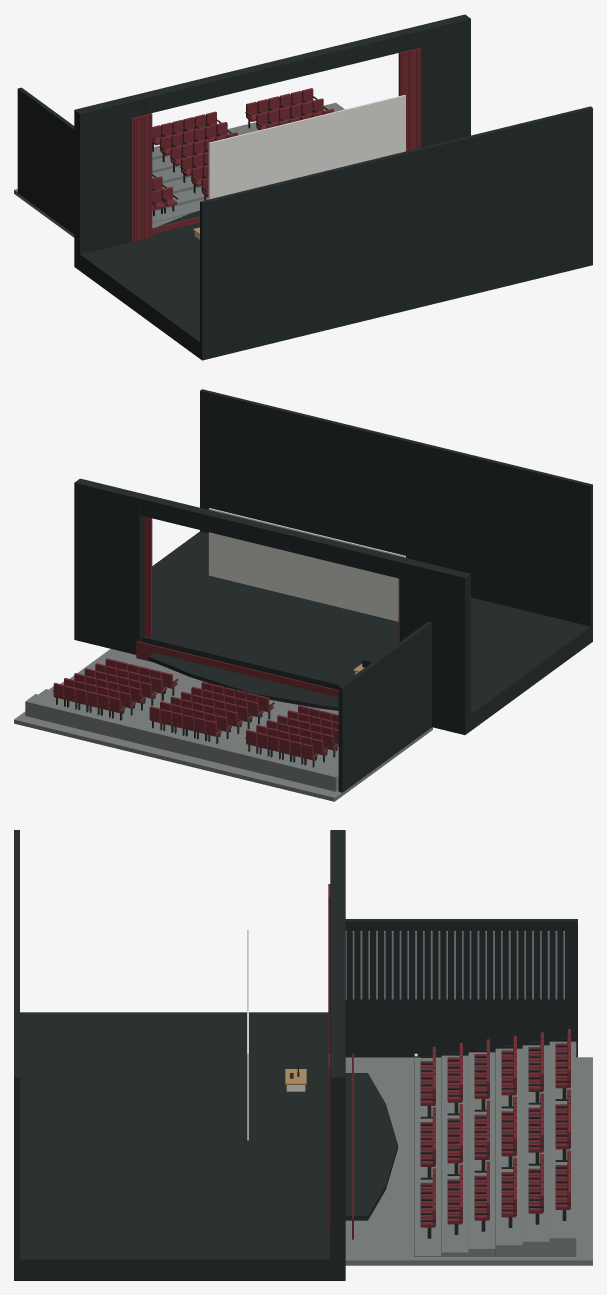
File: pea-interior-75e42ebe6640.glb
3 renders of one model, top to bottom at view 1: azimuth 30°, elevation 25°; view 2: azimuth 150°, elevation 25°; view 3: azimuth 270°, elevation 25°, orthographic. The views are drawn at different scales.
Visible parts, largest first — view 1: PEA.001; view 2: PEA.001; view 3: PEA.001.
Part boxes in pixels (bbox=[...]): PEA.001: bbox=[14, 14, 592, 360]; PEA.001: bbox=[14, 389, 592, 801]; PEA.001: bbox=[14, 830, 592, 1280].
Size of the model in its own units: 19.5 by 7.75 by 19.3.
